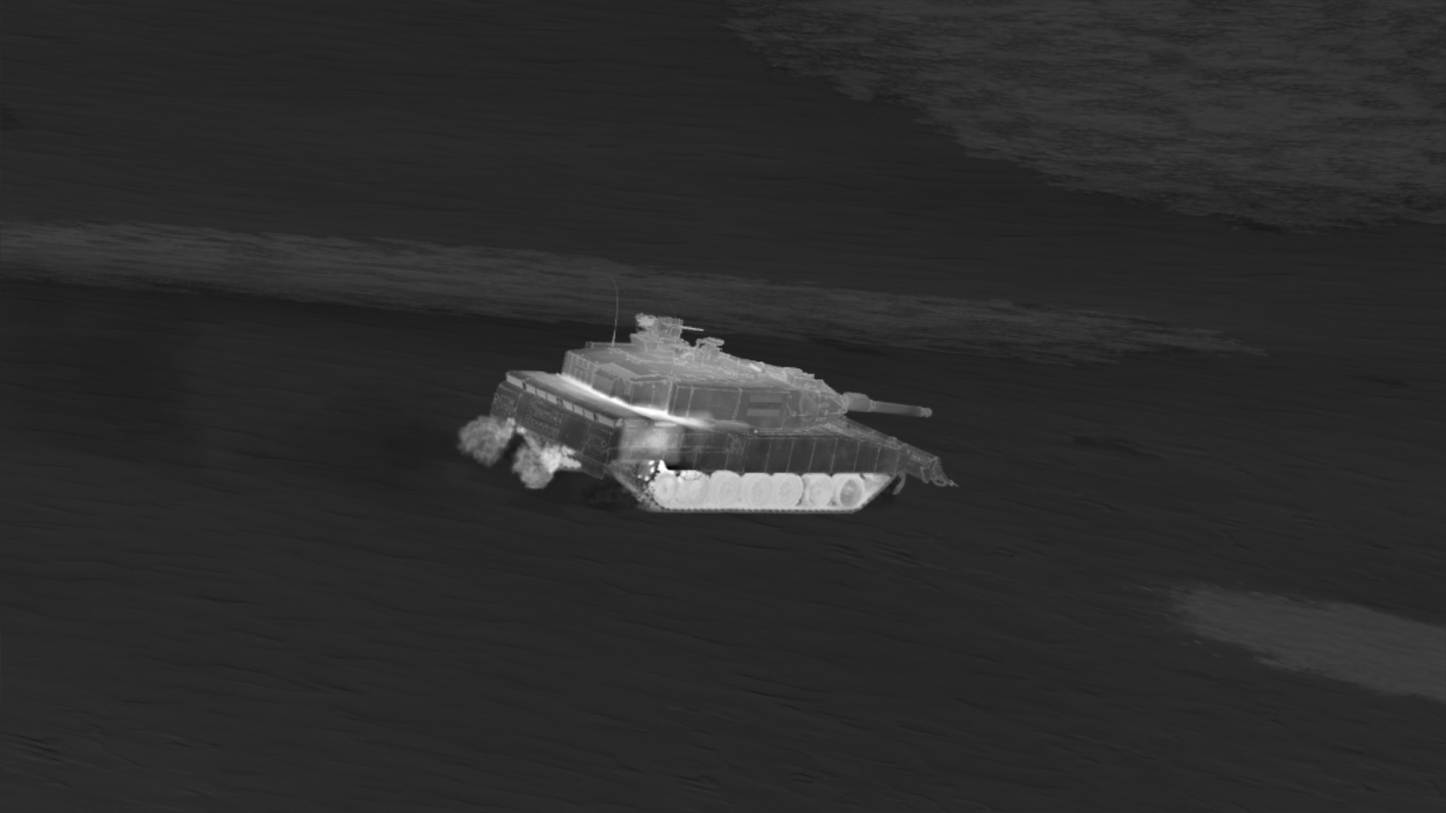leopard2: (488, 312, 959, 525)
